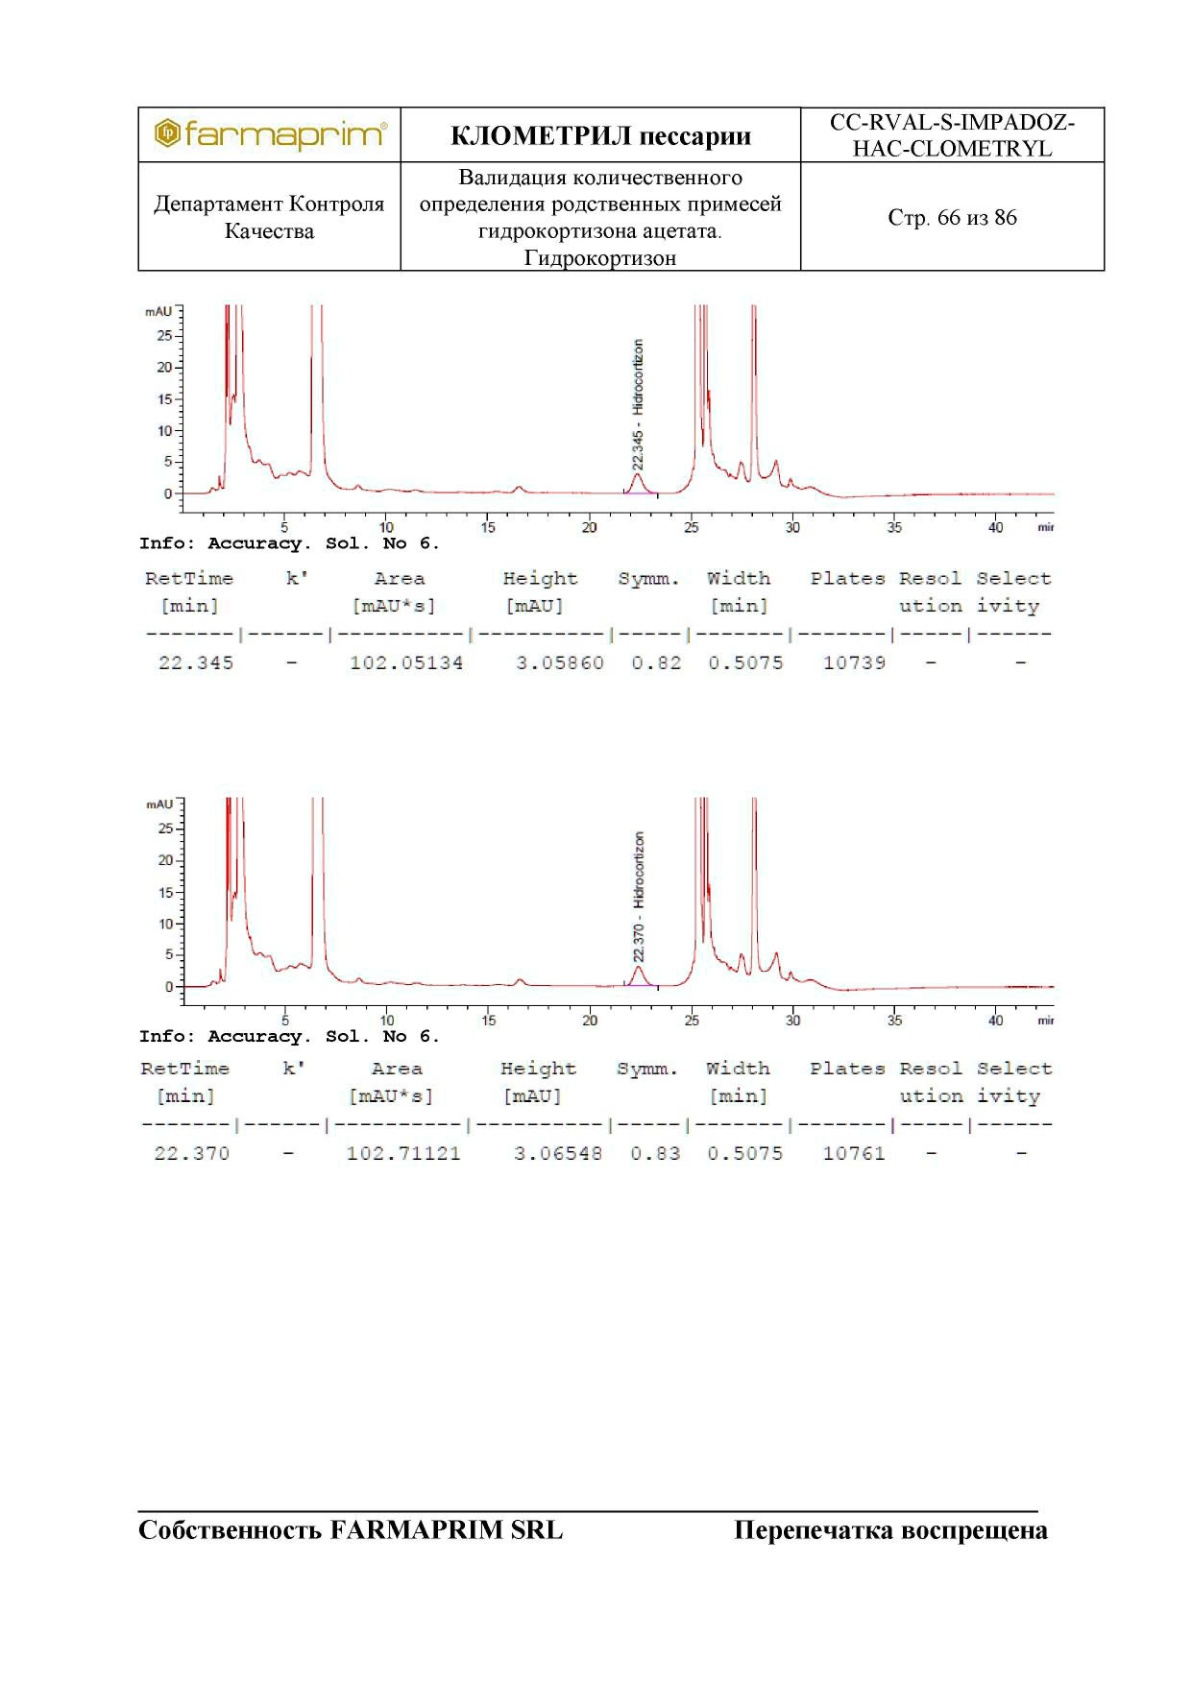full_lined: (135, 106, 1107, 273)
partial_lined: (141, 565, 1057, 685), (135, 1059, 1057, 1170)
